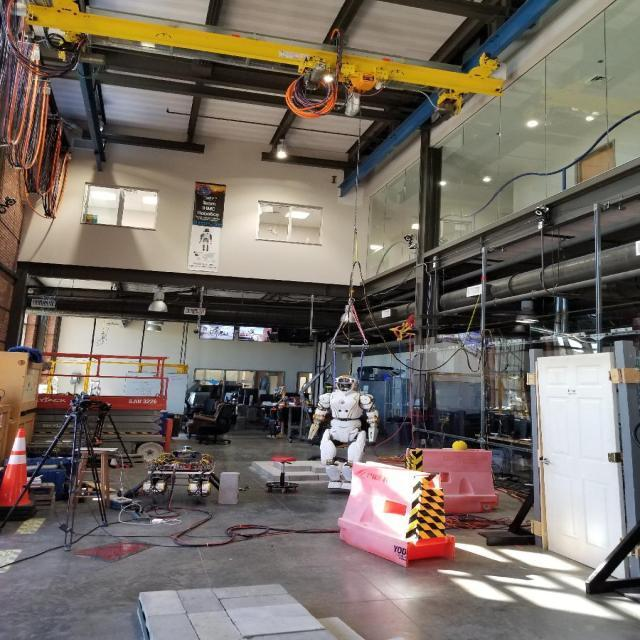door: (530, 352, 634, 584), (539, 457, 551, 465)
